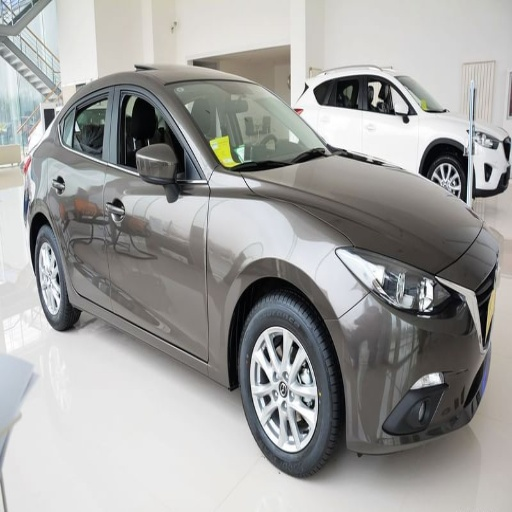back_left_light: (47, 84, 114, 305)
back_right_light: (329, 243, 491, 442)
front_bumper: (169, 81, 329, 169)
front_left_light: (104, 84, 208, 358), (383, 82, 414, 120)
front_right_door: (336, 246, 447, 315)
front_right_light: (245, 156, 482, 271)
trunk: (236, 295, 342, 477), (33, 224, 77, 331)
